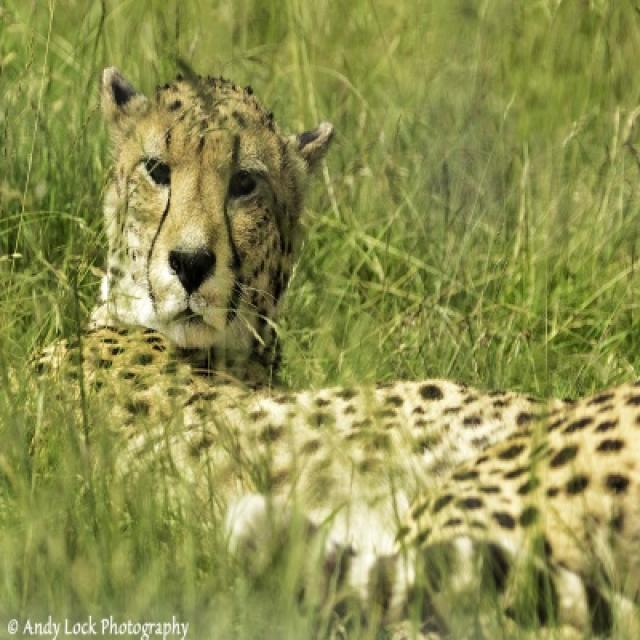Cheetah: (0, 61, 636, 636)
